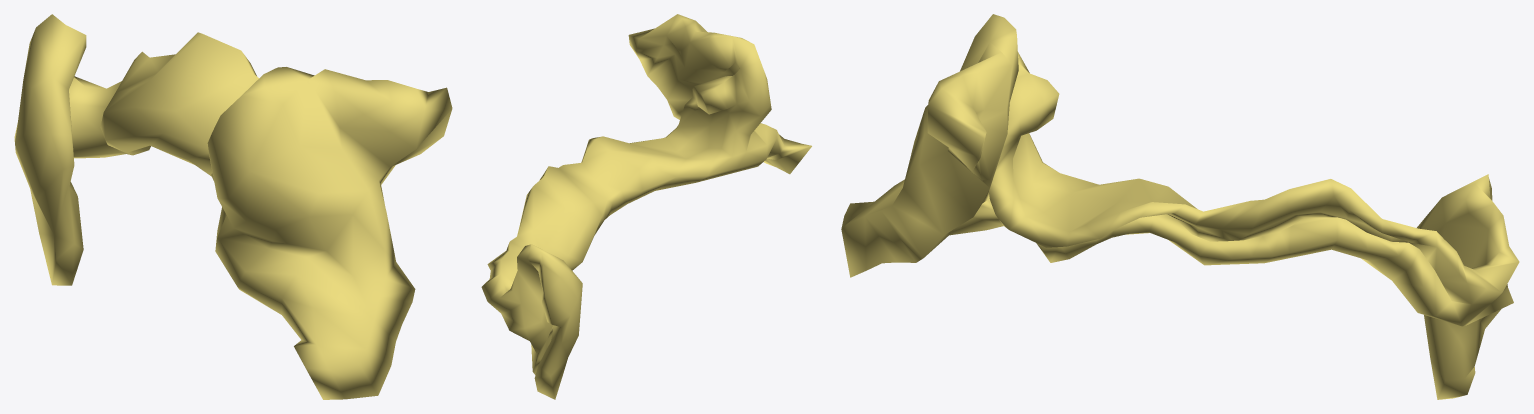
Rendered from calcarine-sulcus-r.glb.
3 renders of one model, left to right at view 1: azimuth 30°, elevation 25°; view 2: azimuth 150°, elevation 25°; view 3: azimuth 270°, elevation 25°, orthographic. The views are drawn at different scales.
Parts seen in each view (by area): view 1: Calcarine sulcus.r; view 2: Calcarine sulcus.r; view 3: Calcarine sulcus.r.
Part boxes in pixels (x1,y1,x2,y2): Calcarine sulcus.r: (14,14,452,399); Calcarine sulcus.r: (481,14,811,399); Calcarine sulcus.r: (841,14,1519,399).
Bounding box in the file's own units: 0.0195 × 0.0331 × 0.0555.
